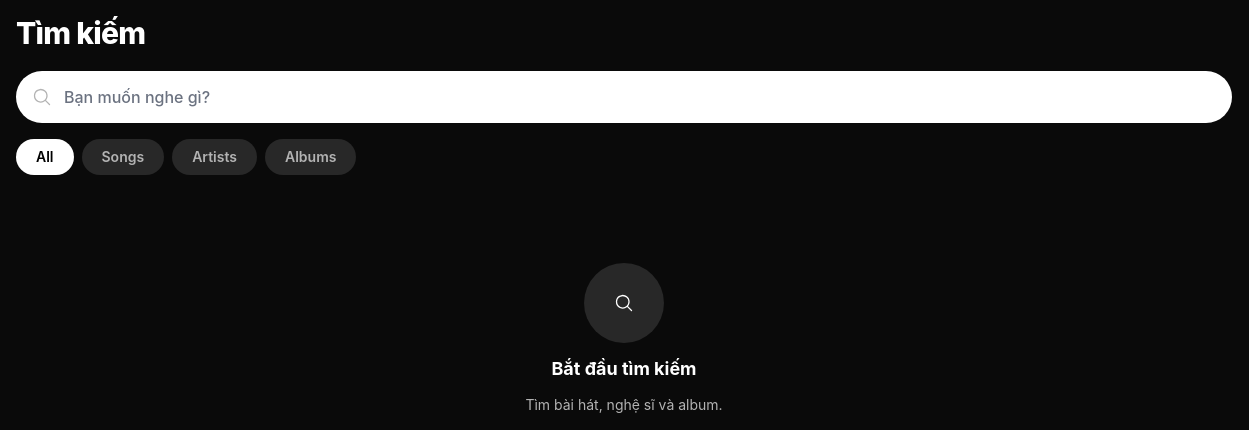
Test: SearchPage › shows artists section when results include artists
Type "artist" into the field with test id "search-input". click: [624, 97]
box: x1=16 y1=71 x2=1232 y2=123
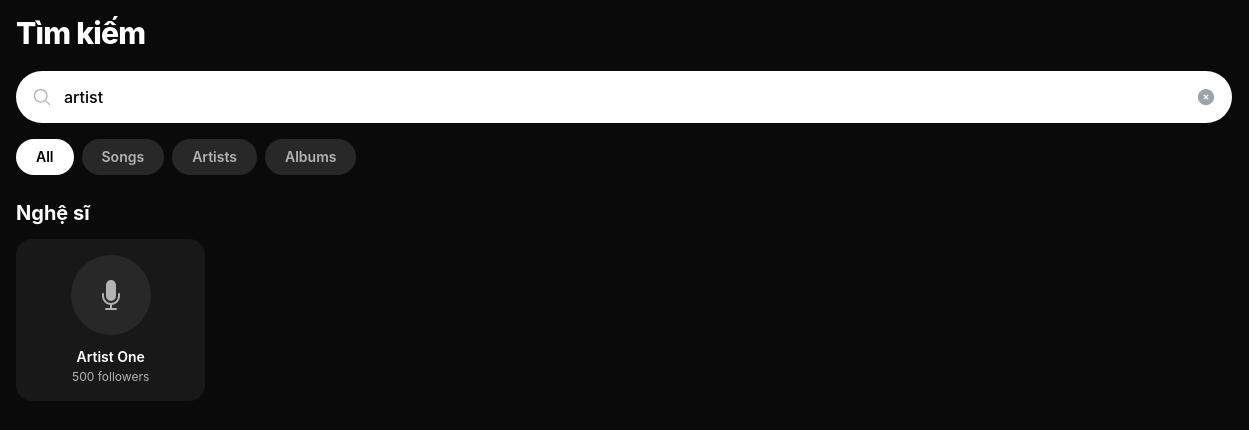
Check: the element with test id "artists-section" is shown, box x1=16 y1=201 x2=205 y2=401
Check: the text "Artist One" is shown, box x1=76 y1=348 x2=145 y2=365
Check: the text "500 followers" is shown, box x1=72 y1=369 x2=149 y2=385
